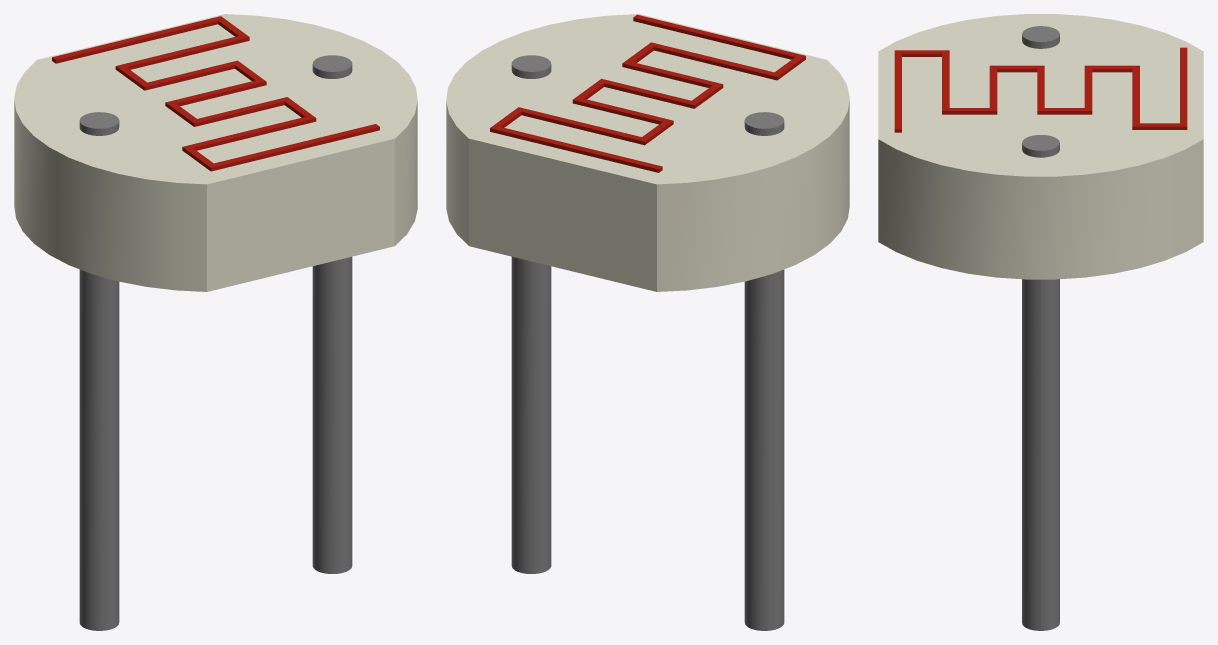
File: kc-r_ldr_5.1x4.3mm_p3.4mm_vertical.glb
3 views of the same model, side by side, from view 1: azimuth 30°, elevation 25°; view 2: azimuth 150°, elevation 25°; view 3: azimuth 270°, elevation 25° (orthographic). The views are drawn at different scales.
Visible parts, largest first — view 1: 0.75_0.75_0.6666666666666666_0, 0.25_0.25_0.25_0, 0.4166666666666667_0_0_0; view 2: 0.75_0.75_0.6666666666666666_0, 0.25_0.25_0.25_0, 0.4166666666666667_0_0_0; view 3: 0.75_0.75_0.6666666666666666_0, 0.25_0.25_0.25_0, 0.4166666666666667_0_0_0.
Boxes of the visible parts, <box> form: 0.75_0.75_0.6666666666666666_0: <box>14,14,417,291</box>; 0.25_0.25_0.25_0: <box>79,55,352,630</box>; 0.4166666666666667_0_0_0: <box>52,16,379,171</box>; 0.75_0.75_0.6666666666666666_0: <box>446,14,849,291</box>; 0.25_0.25_0.25_0: <box>511,55,784,630</box>; 0.4166666666666667_0_0_0: <box>490,14,805,172</box>; 0.75_0.75_0.6666666666666666_0: <box>878,14,1203,279</box>; 0.25_0.25_0.25_0: <box>1022,26,1059,630</box>; 0.4166666666666667_0_0_0: <box>894,47,1187,132</box>.
Bounding box in the file's own units: 0.5085 × 0.7 × 0.43.
